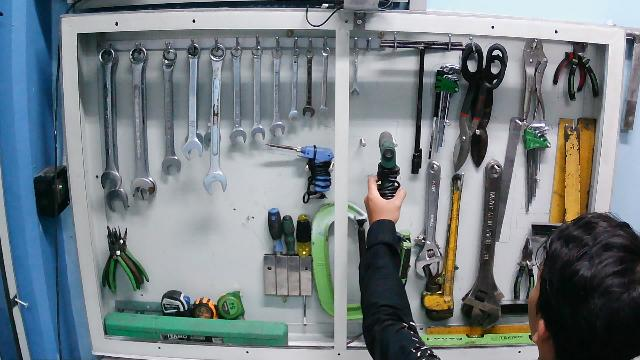gun_lem: (359, 129, 410, 235)
